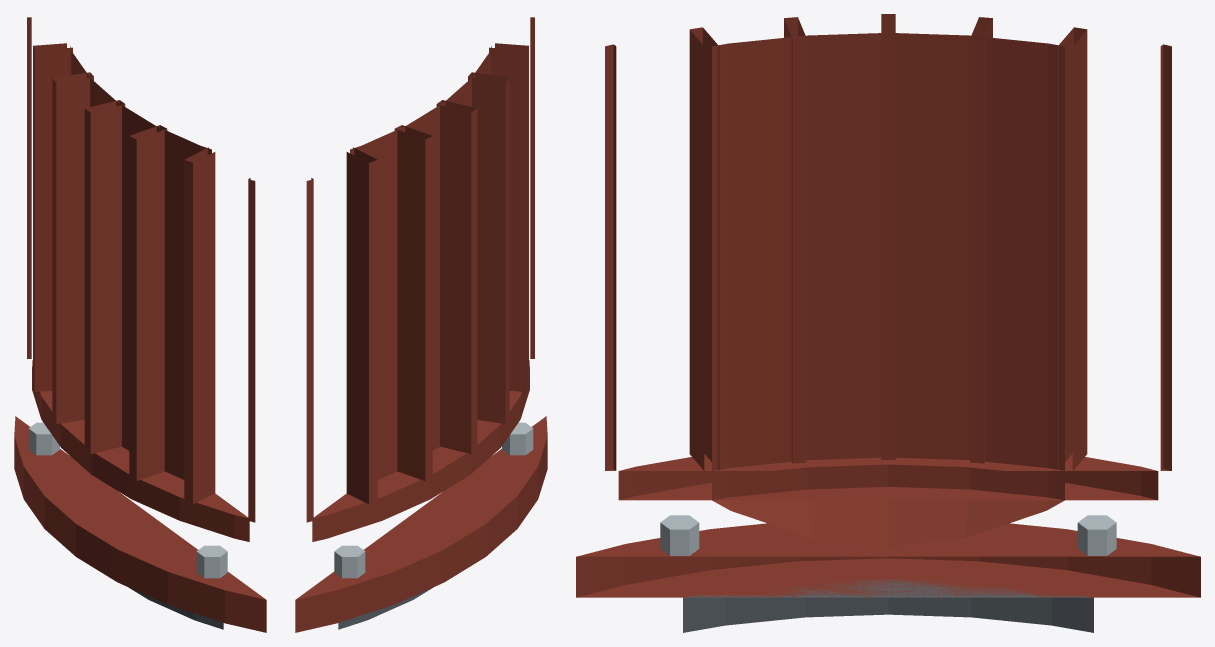
The model's file is cell_67.obj.
The picture shows the model from 3 angles, left to right: view 1: azimuth 30°, elevation 25°; view 2: azimuth 150°, elevation 25°; view 3: azimuth 270°, elevation 25°; orthographic projection. The views are drawn at different scales.
Size of the model in its own units: 0.1444 by 1 by 0.9652.
